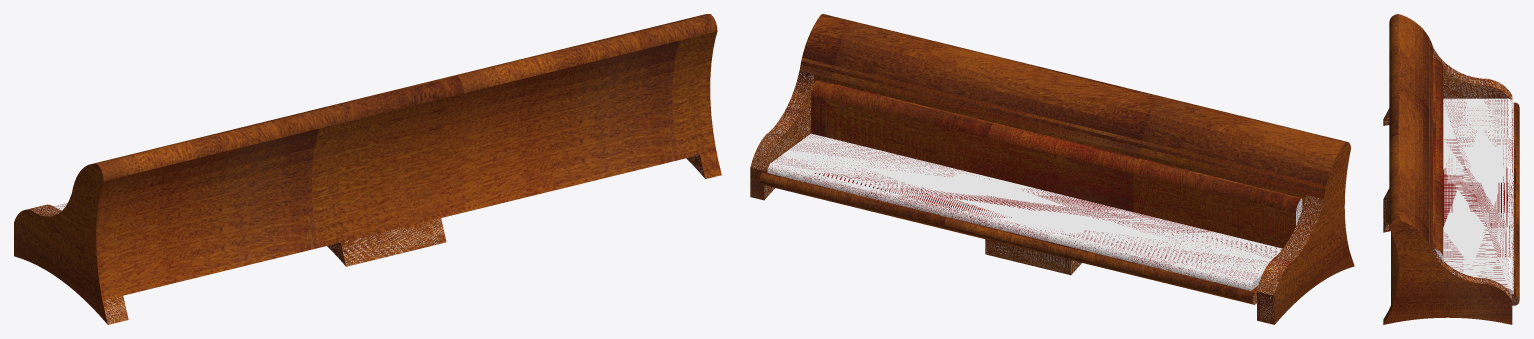
3 views of the same model, side by side, from view 1: azimuth 30°, elevation 25°; view 2: azimuth 150°, elevation 25°; view 3: azimuth 270°, elevation 25° (orthographic). The views are drawn at different scales.
Parts seen in each view (by area): view 1: mesh1_mesh1-geometry; view 2: mesh1_mesh1-geometry; view 3: mesh1_mesh1-geometry.
Boxes of the visible parts, bbox=[...] form: mesh1_mesh1-geometry: bbox=[14, 14, 721, 324]; mesh1_mesh1-geometry: bbox=[750, 14, 1354, 324]; mesh1_mesh1-geometry: bbox=[1383, 14, 1519, 324].
Bounding box in the file's own units: 0.9388 × 0.2234 × 0.2622.
